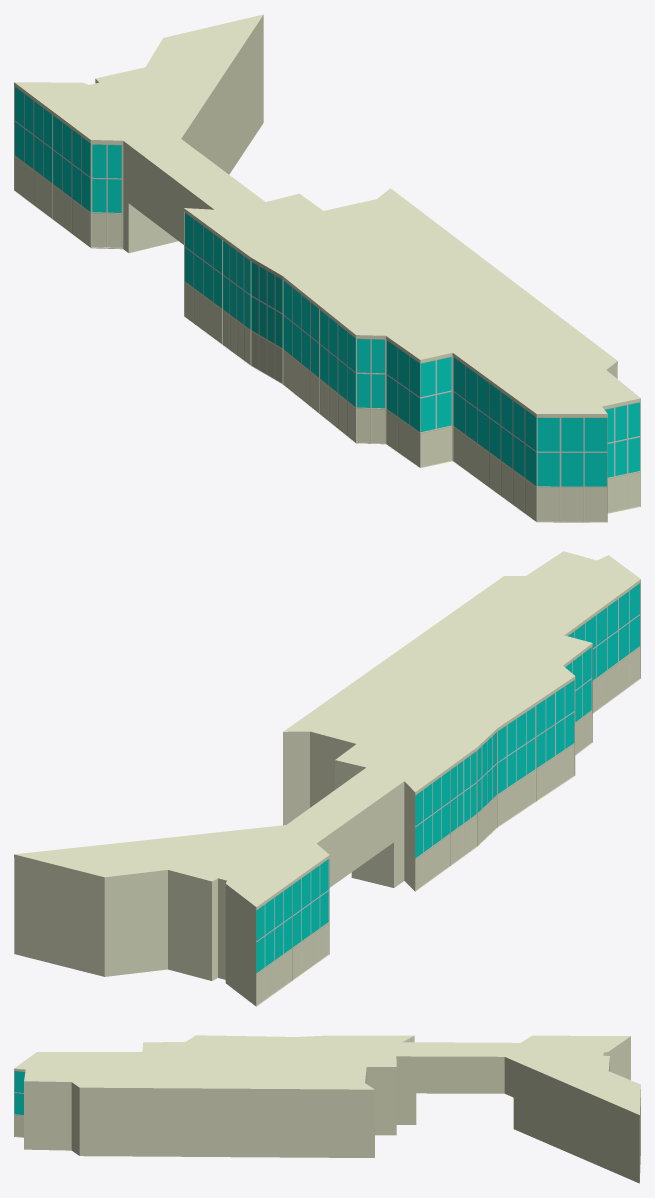
Rendered from Law Building.fbx.
3 renders of one model, top to bottom at view 1: azimuth 30°, elevation 25°; view 2: azimuth 150°, elevation 25°; view 3: azimuth 270°, elevation 25°, orthographic. The views are drawn at different scales.
Parts seen in each view (by area): view 1: Law Building.001; view 2: Law Building.001; view 3: Law Building.001.
Part boxes in pixels (bbox=[...]): Law Building.001: bbox=[14, 14, 640, 522]; Law Building.001: bbox=[14, 551, 640, 1006]; Law Building.001: bbox=[14, 1035, 640, 1183].
Bounding box in the file's own units: 3160 × 1263 × 10476.
